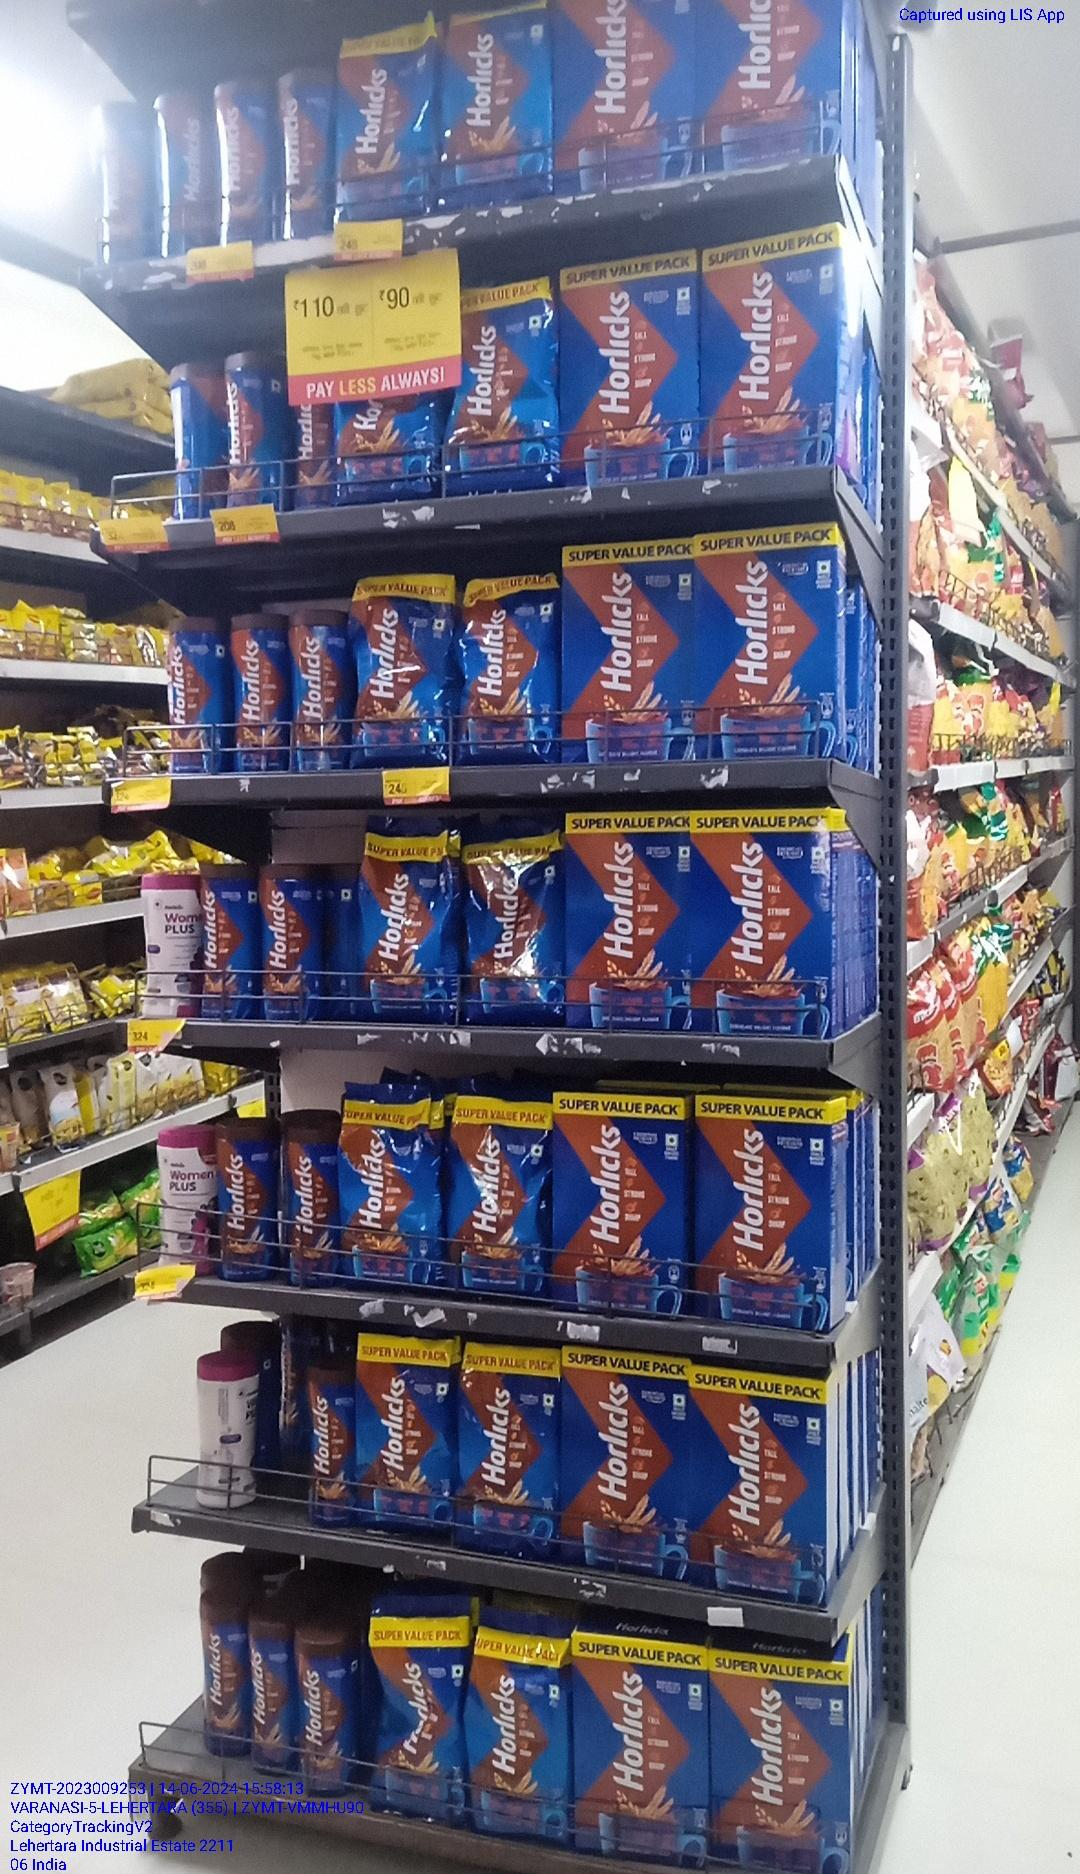HORLICK_CHOCOLATE_200_G_JAR: (197, 858, 252, 1021), (233, 611, 287, 774), (292, 608, 342, 775), (261, 862, 314, 1021), (224, 349, 277, 505), (169, 619, 221, 774)
HORLICK_CHOCOLATE_500_G_JAR: (292, 1627, 353, 1797), (277, 1115, 332, 1286), (215, 1120, 268, 1283), (197, 1596, 245, 1758), (247, 1618, 290, 1770)
HORLICK_CHOCOLATE_500_G_PACK: (693, 526, 837, 758), (690, 810, 833, 1040), (702, 224, 834, 466), (695, 1095, 828, 1335), (560, 1344, 691, 1583), (575, 1629, 707, 1866), (698, 1364, 826, 1604), (552, 1091, 685, 1317), (711, 1651, 844, 1874), (560, 263, 693, 483), (561, 541, 693, 758), (563, 810, 685, 1031)
HORLICK_CHOCOLATE_750_G_POUCH: (462, 1620, 568, 1844), (448, 277, 555, 484), (443, 8, 551, 199), (357, 822, 461, 1021), (337, 1091, 442, 1287), (355, 1331, 452, 1534), (458, 1341, 554, 1546), (367, 1617, 461, 1824), (451, 1095, 545, 1294), (337, 23, 433, 216), (465, 829, 559, 1019), (353, 574, 448, 759), (461, 573, 554, 762)
